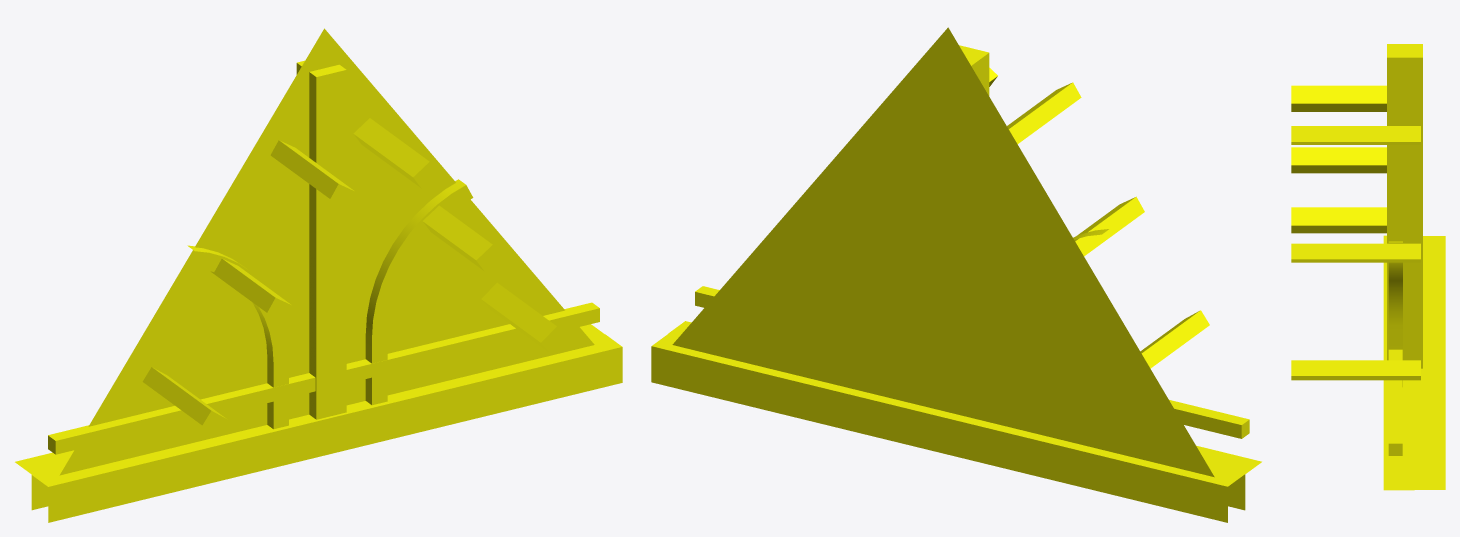
Rendered from Roof_Front_Brick4.glb.
3 renders of one model, left to right at view 1: azimuth 30°, elevation 25°; view 2: azimuth 150°, elevation 25°; view 3: azimuth 270°, elevation 25°, orthographic. The views are drawn at different scales.
Visible parts, largest first — view 1: Roof_Front_Brick4; view 2: Roof_Front_Brick4; view 3: Roof_Front_Brick4.
Part boxes in pixels (<box>): Roof_Front_Brick4: <box>15,28,622,522</box>; Roof_Front_Brick4: <box>651,27,1261,522</box>; Roof_Front_Brick4: <box>1291,44,1445,490</box>.
Size of the model in its own units: 4.4 by 3.07 by 1.13.
2 materials, 2 textured.
